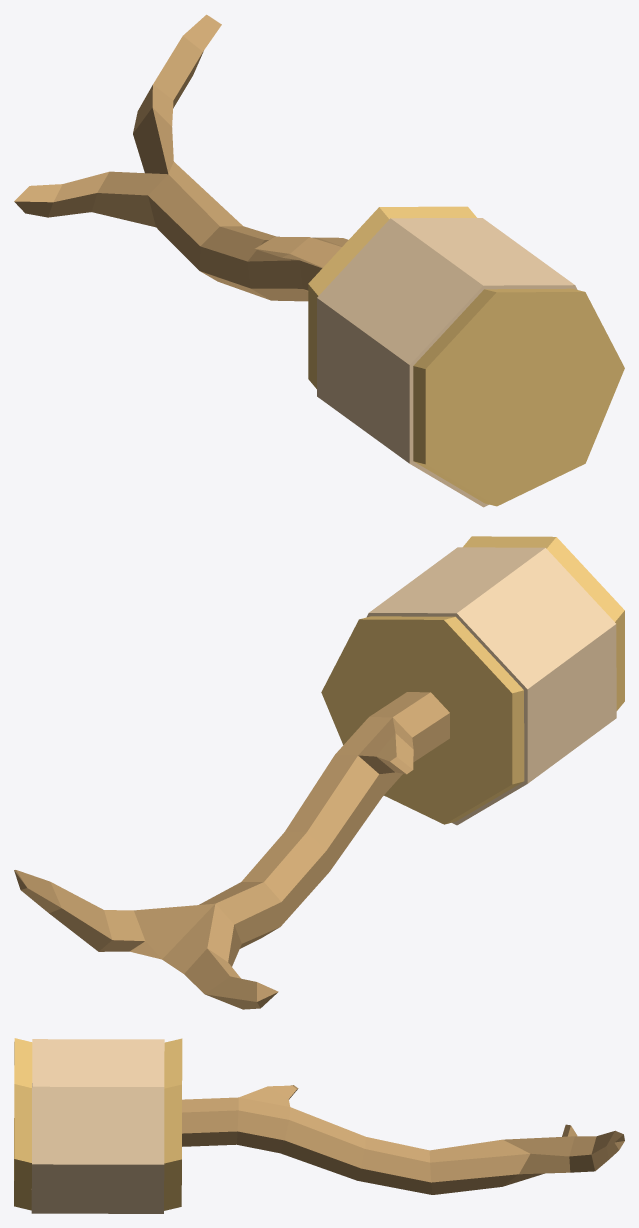
The model's file is rattle.gltf.
The picture shows the model from 3 angles, top to bottom: view 1: azimuth 30°, elevation 25°; view 2: azimuth 150°, elevation 25°; view 3: azimuth 270°, elevation 25°; orthographic projection. The views are drawn at different scales.
Parts seen in each view (by area): view 1: rattle; view 2: rattle; view 3: rattle.
Part boxes in pixels (left/top/right/bottom): rattle: left=14, top=14, right=624, bottom=507; rattle: left=14, top=536, right=624, bottom=1009; rattle: left=14, top=1038, right=624, bottom=1213.
Size of the model in its own units: 0.5322 by 0.4709 by 1.63.
